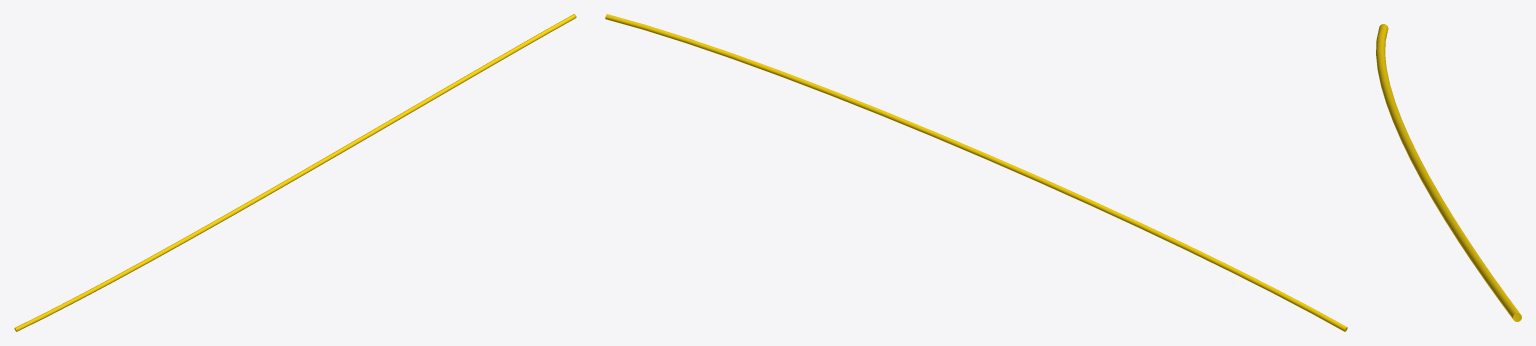
Rendered from Event_421115418_track_194.fbx.
3 renders of one model, left to right at view 1: azimuth 30°, elevation 25°; view 2: azimuth 150°, elevation 25°; view 3: azimuth 270°, elevation 25°, orthographic. The views are drawn at different scales.
Parts seen in each view (by area): view 1: Model; view 2: Model; view 3: Model.
Boxes of the visible parts, x1,y1,x2,y2 form: Model: (14,14,576,331); Model: (605,14,1347,331); Model: (1376,24,1521,321).
Bounding box in the file's own units: 5.95 × 1.42 × 0.6331.
